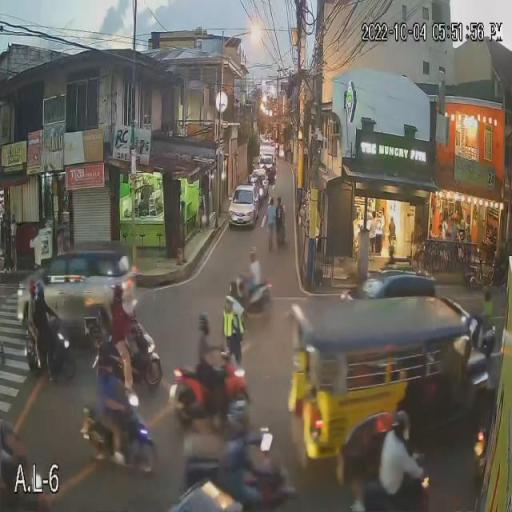helmet: (228, 404, 250, 430), (102, 343, 122, 371), (394, 411, 411, 441), (198, 314, 210, 335), (248, 248, 258, 262), (37, 281, 45, 298), (114, 286, 123, 300), (28, 282, 36, 297)
motorcycle: (185, 457, 299, 512), (82, 404, 160, 476), (86, 318, 164, 386), (172, 366, 252, 420), (353, 469, 430, 512), (24, 330, 76, 381), (235, 275, 272, 314)
rider: (376, 440, 422, 512), (222, 431, 262, 512), (98, 370, 129, 470), (112, 301, 142, 404), (194, 335, 224, 425), (36, 299, 57, 381), (27, 298, 41, 368), (244, 262, 261, 310)
